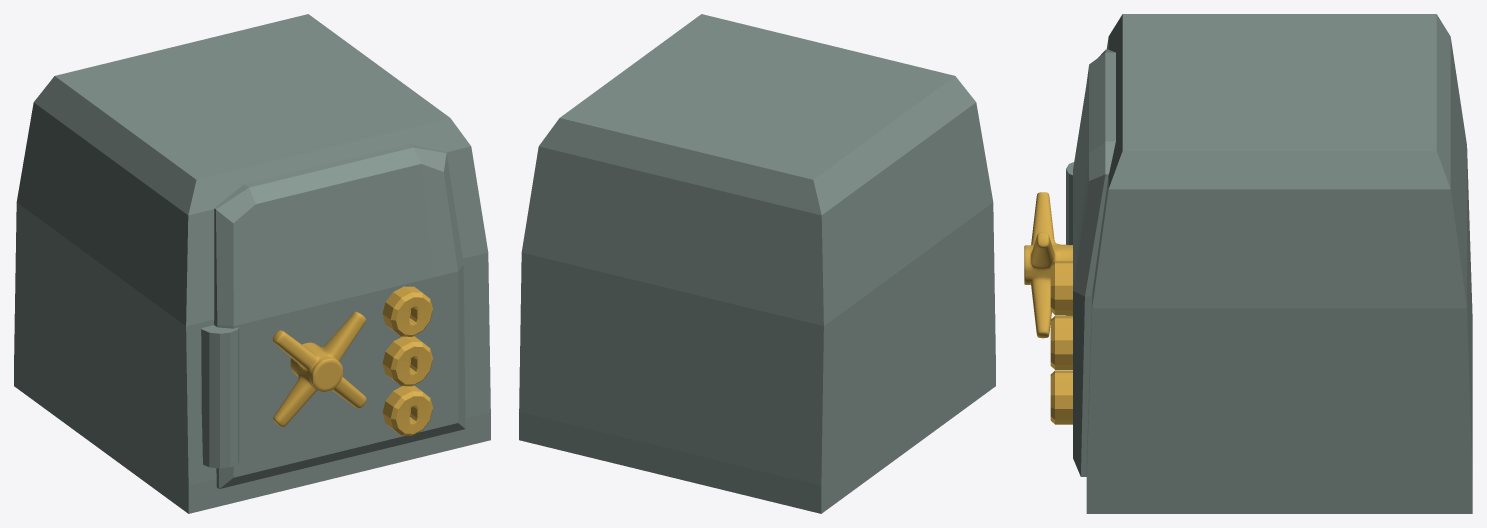
Rendered from Safe.fbx.
3 views of the same model, side by side, from view 1: azimuth 30°, elevation 25°; view 2: azimuth 150°, elevation 25°; view 3: azimuth 270°, elevation 25° (orthographic). The views are drawn at different scales.
Visible parts, largest first — view 1: SafeBody, SafeDoor; view 2: SafeBody; view 3: SafeBody, SafeDoor.
Boxes of the visible parts, <box> form: SafeBody: <box>14,14,490,513</box>; SafeDoor: <box>201,144,465,488</box>; SafeBody: <box>519,14,995,513</box>; SafeBody: <box>1086,14,1472,513</box>; SafeDoor: <box>1024,49,1115,476</box>.
Bounding box in the file's own units: 192 × 192 × 223.
